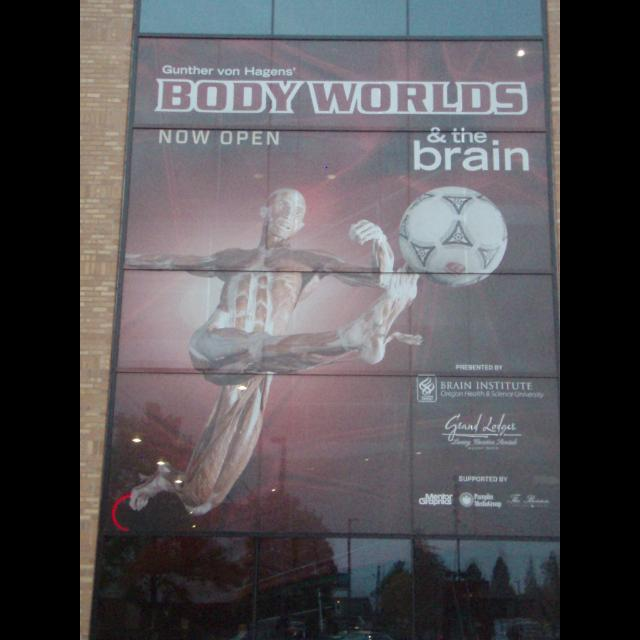Football: (396, 186, 508, 288)
